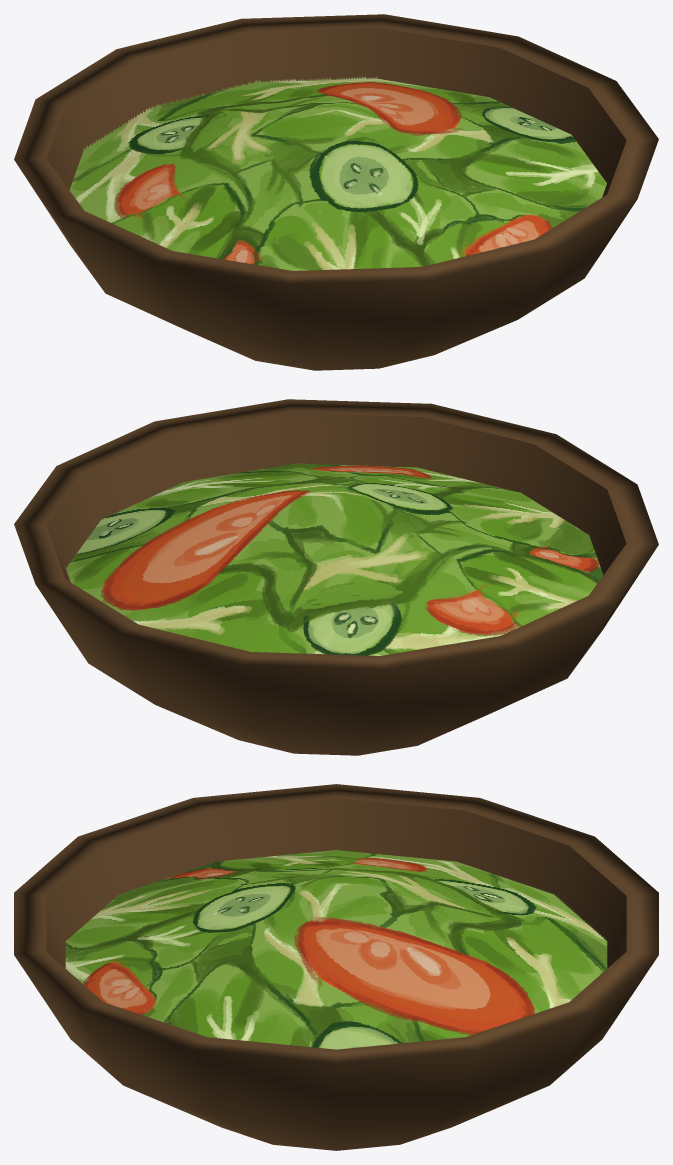
Rendered from salad.fbx.
3 renders of one model, top to bottom at view 1: azimuth 30°, elevation 25°; view 2: azimuth 150°, elevation 25°; view 3: azimuth 270°, elevation 25°, orthographic. The views are drawn at different scales.
Visible parts, largest first — view 1: salad; view 2: salad; view 3: salad.
Part boxes in pixels (box(x1,y1,x2,y2)): salad: box(14, 14, 658, 370); salad: box(14, 399, 658, 755); salad: box(14, 784, 658, 1150).
Size of the model in its own units: 44.15 by 15.08 by 43.04.
1 material, 1 textured.
